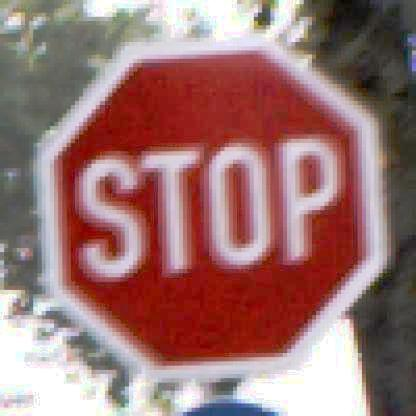Stop Sign: (28, 35, 399, 378)
